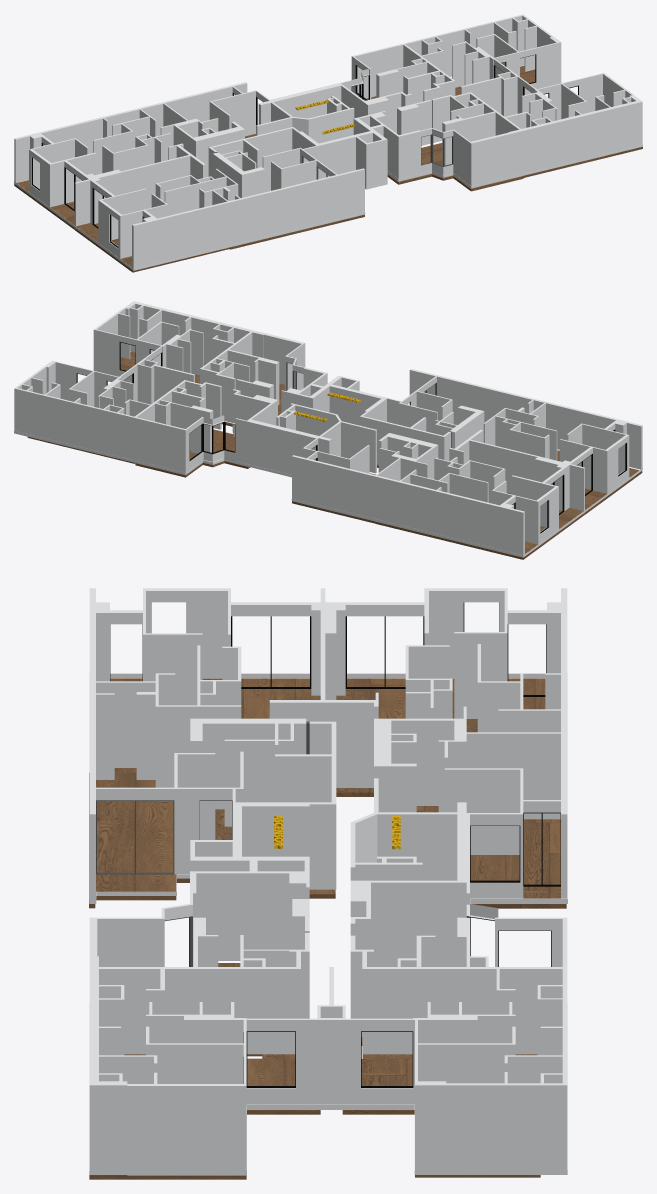
File: PISO-2.glb
3 views of the same model, one above another, from view 1: azimuth 30°, elevation 25°; view 2: azimuth 150°, elevation 25°; view 3: azimuth 270°, elevation 25° (orthographic). The views are drawn at different scales.
Visible parts, largest first — view 1: walls-parent, tipo-8-parent, tipo-2-parent, tipo-3-parent, tipo-1-parent; view 2: walls-parent, tipo-3-parent, tipo-5-parent, tipo-2-parent; view 3: walls-parent, tipo-1-parent, tipo-4-parent, tipo-3-parent, tipo-7-parent, tipo-2-parent, tipo-6-parent.
Boxes of the visible parts, left/top/right/bottom form: walls-parent: left=14, top=14, right=642, bottom=270; tipo-8-parent: left=387, top=143, right=523, bottom=191; tipo-2-parent: left=75, top=223, right=229, bottom=272; tipo-3-parent: left=14, top=180, right=90, bottom=229; tipo-1-parent: left=229, top=214, right=364, bottom=249; walls-parent: left=14, top=301, right=642, bottom=557; tipo-3-parent: left=375, top=509, right=583, bottom=559; tipo-5-parent: left=135, top=429, right=249, bottom=477; tipo-2-parent: left=506, top=450, right=642, bottom=515; walls-parent: left=89, top=588, right=567, bottom=1175; tipo-1-parent: left=89, top=772, right=335, bottom=908; tipo-4-parent: left=416, top=810, right=566, bottom=908; tipo-3-parent: left=336, top=678, right=560, bottom=822; tipo-7-parent: left=89, top=1059, right=320, bottom=1179; tipo-2-parent: left=110, top=678, right=320, bottom=772; tipo-6-parent: left=342, top=1059, right=540, bottom=1177.
Size of what is drawn, in the model's own units: 37.46 by 3.59 by 15.24.
Materials: 12 (10 with a texture image).
